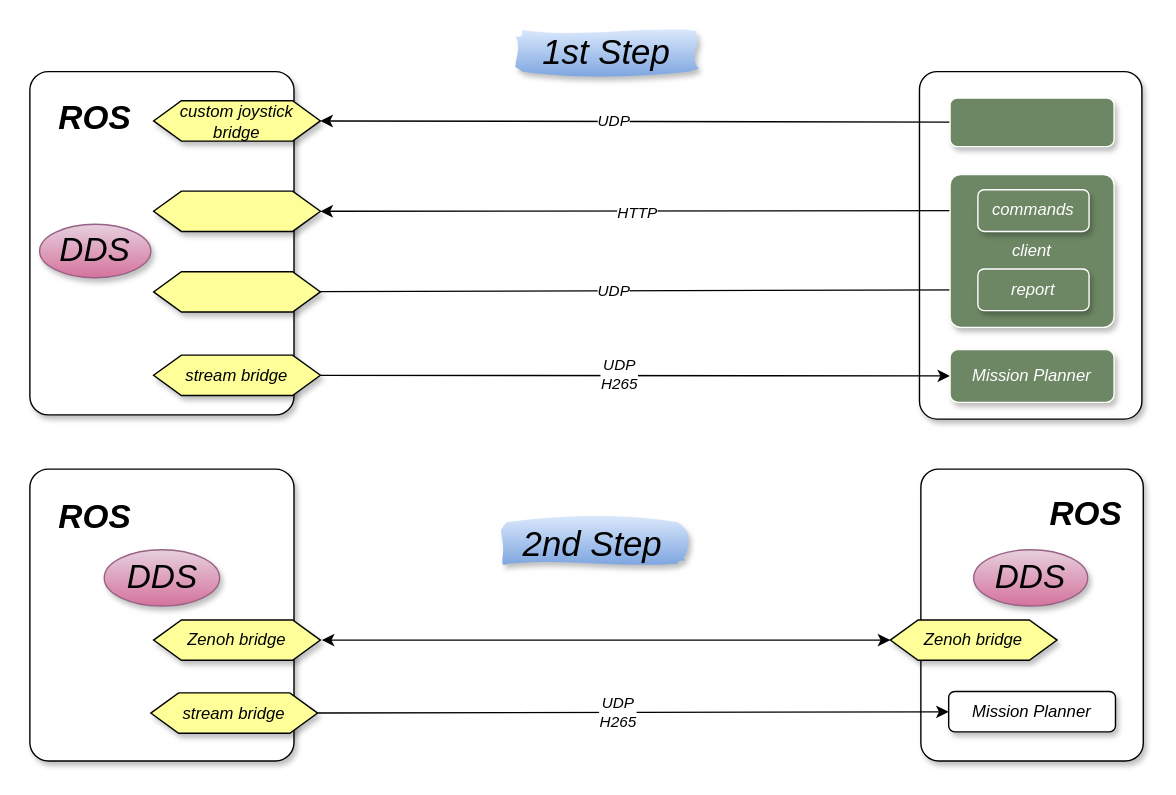
Some shapes in this 1176 by 795 pixel diagram are drawn without their labels. The shapes that lost their labels are listed below. From the top down, each one's centre as x and y in pixels, then its label:
At pixel 1032 123: "joystick".
At pixel 238 212: "custom web bridge".
At pixel 238 293: "custom telemetry bridge".
